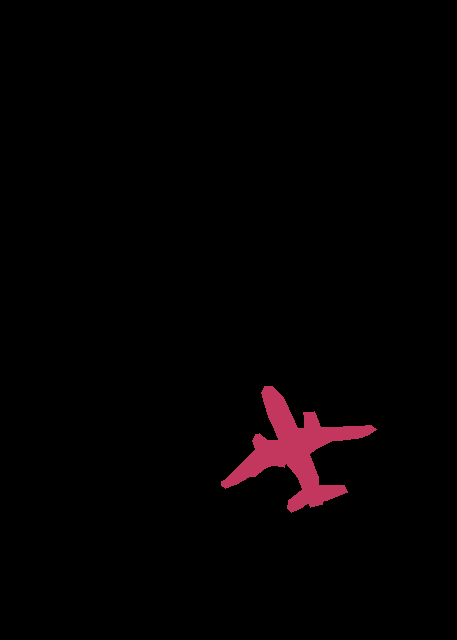Airplane: (221, 386, 376, 512)
